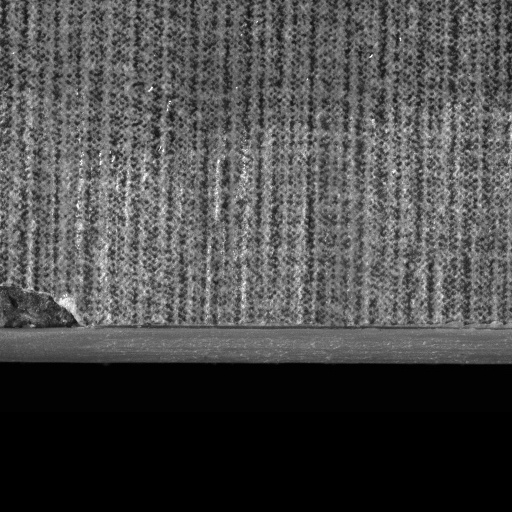bengque: (0, 281, 94, 332)
